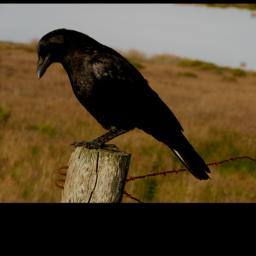Crow: (14, 25, 240, 182)
